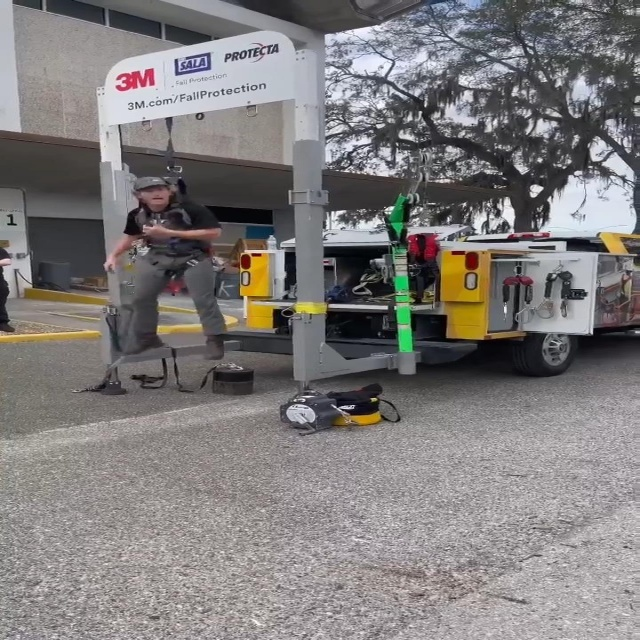Arnes_seguridad: (117, 171, 226, 275)
